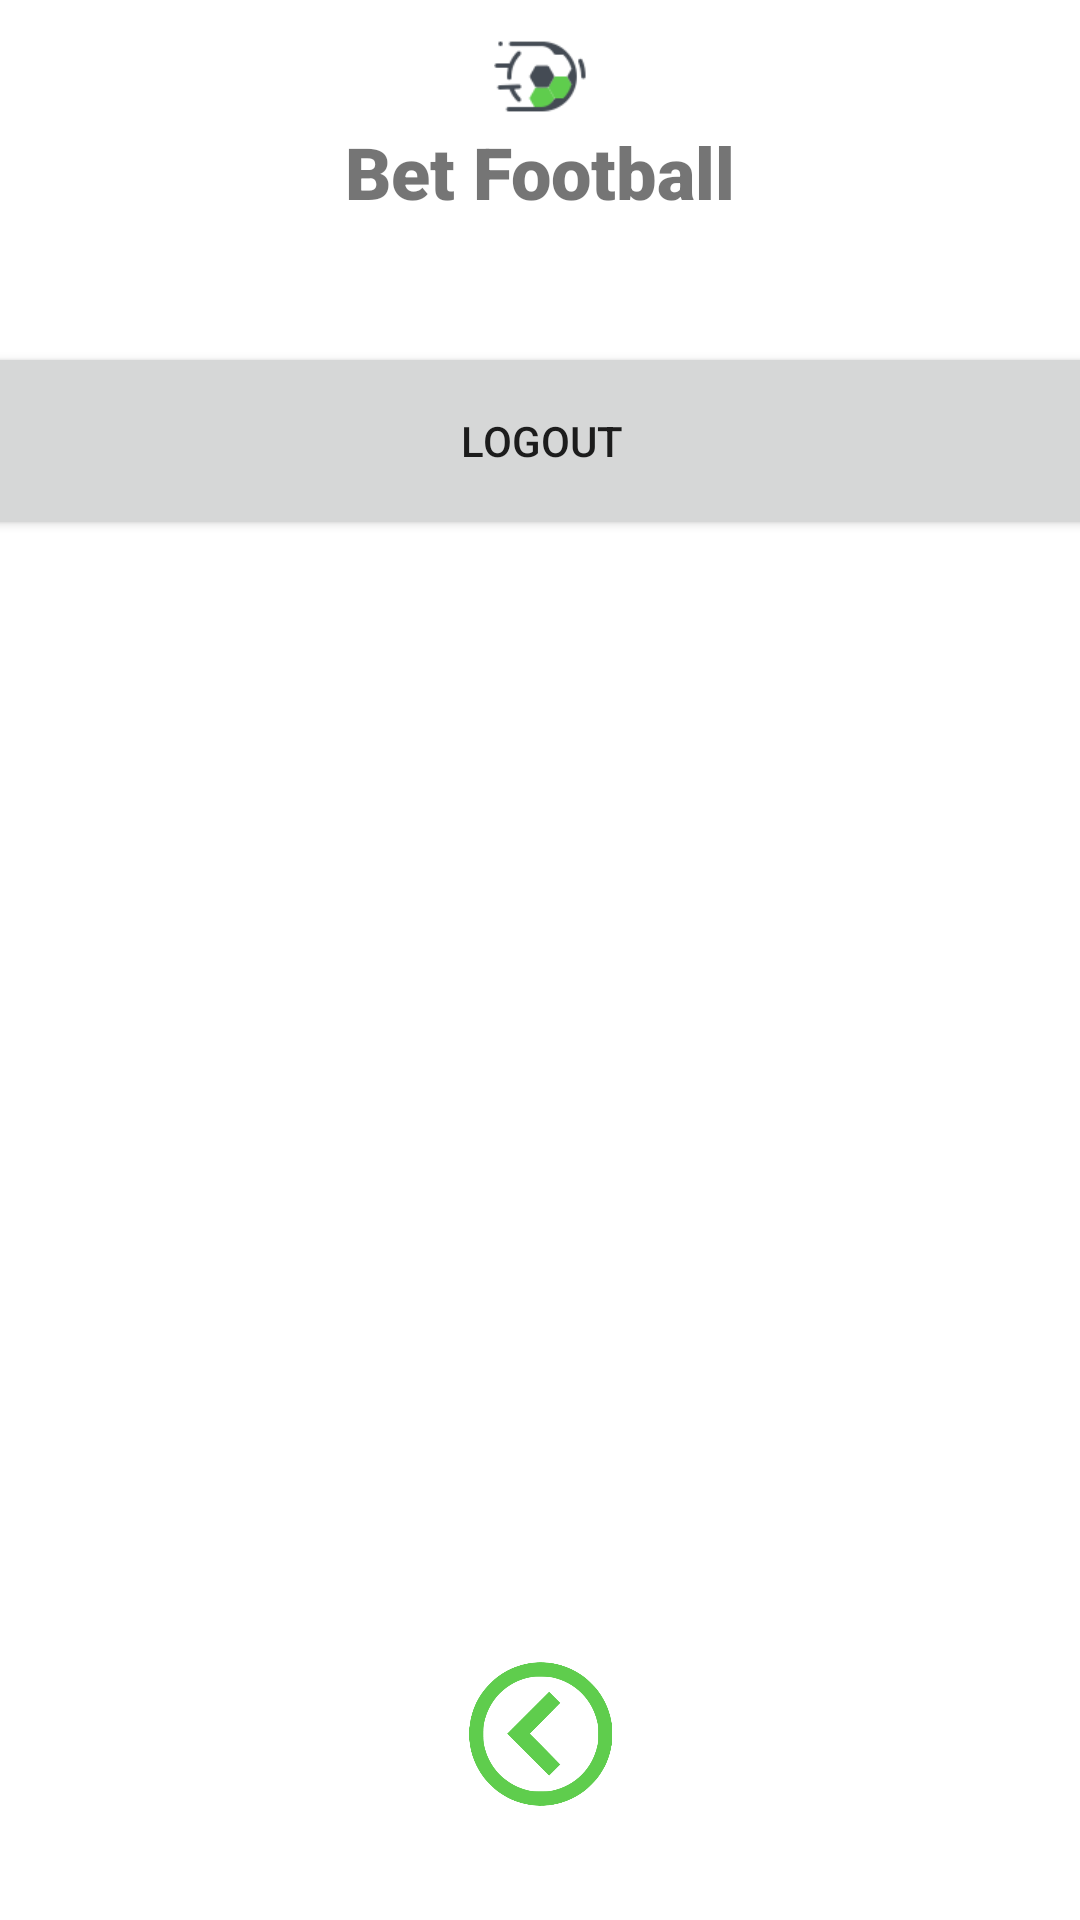

Where icons sit on this 1080x1920 app screen, as [x1=x1, y1=y1, x2=x2, y2=y2]:
back: [x1=469, y1=1662, x2=612, y2=1806]
